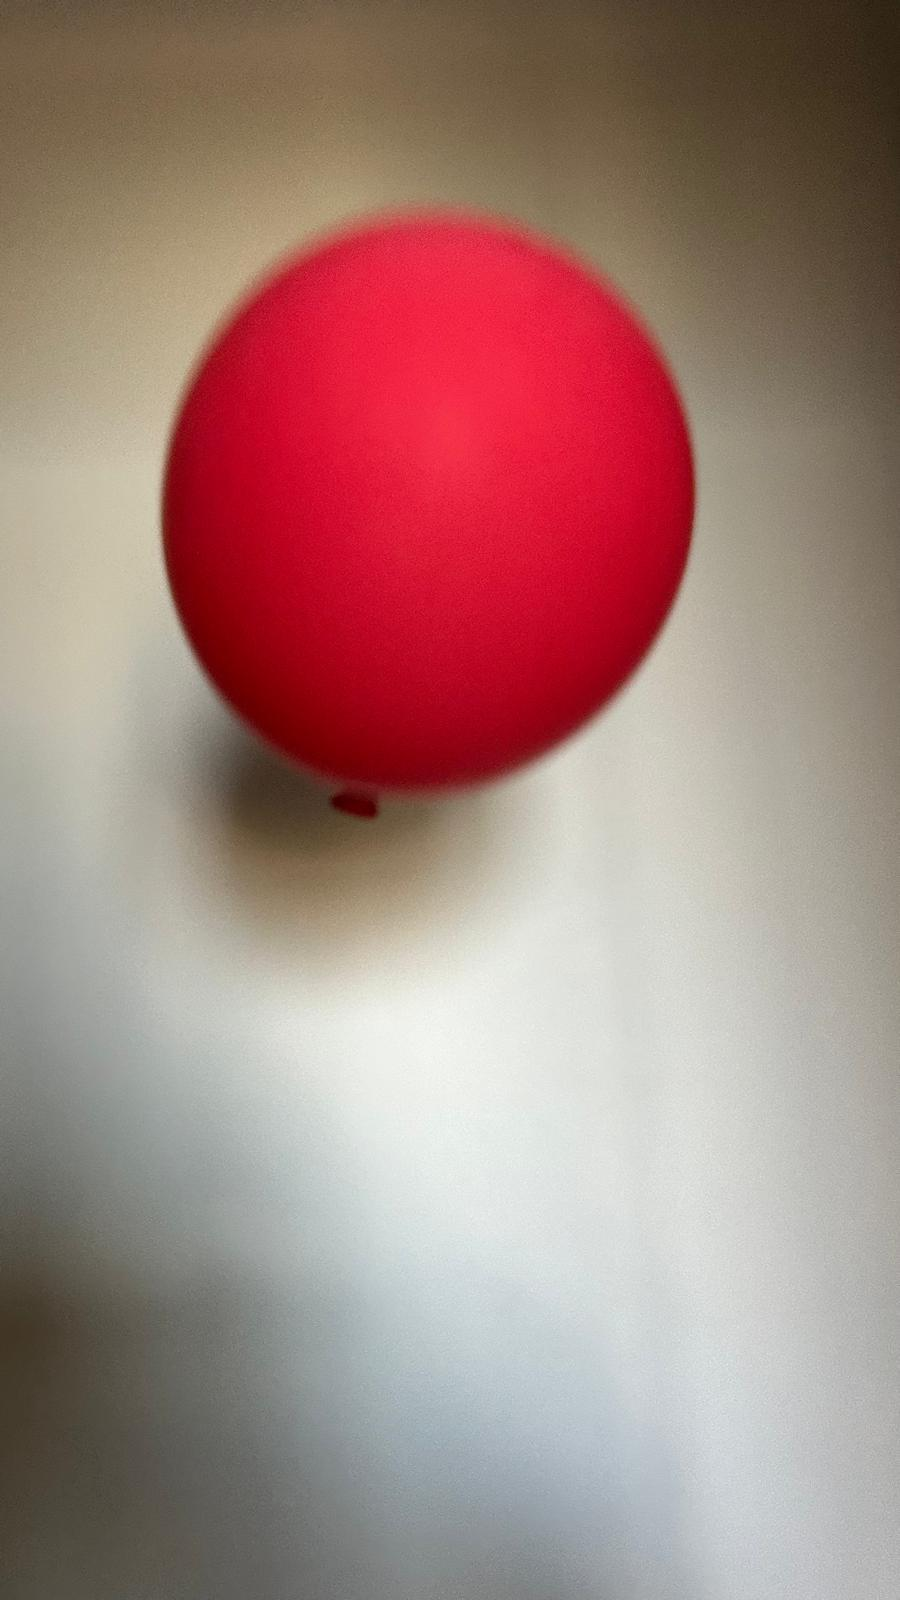red: (157, 208, 698, 833)
